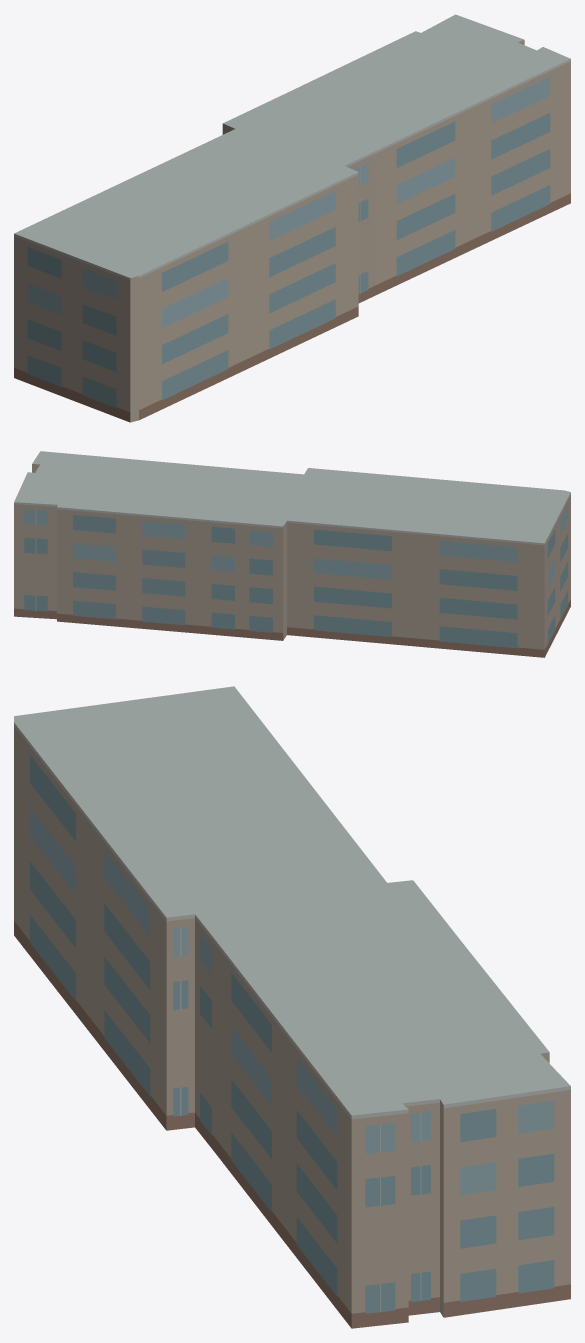
File: survey-upis-33030373.glb
3 renders of one model, top to bottom at view 1: azimuth 30°, elevation 25°; view 2: azimuth 150°, elevation 25°; view 3: azimuth 270°, elevation 25°, orthographic. The views are drawn at different scales.
Parts seen in each view (by area): view 1: survey-upis-33030373.tmp; view 2: survey-upis-33030373.tmp; view 3: survey-upis-33030373.tmp.
Part boxes in pixels (<box>): survey-upis-33030373.tmp: <box>14,14,570,422</box>; survey-upis-33030373.tmp: <box>14,451,570,657</box>; survey-upis-33030373.tmp: <box>14,686,570,1328</box>.
Size of the model in its own units: 60.3 by 13.95 by 33.06.
